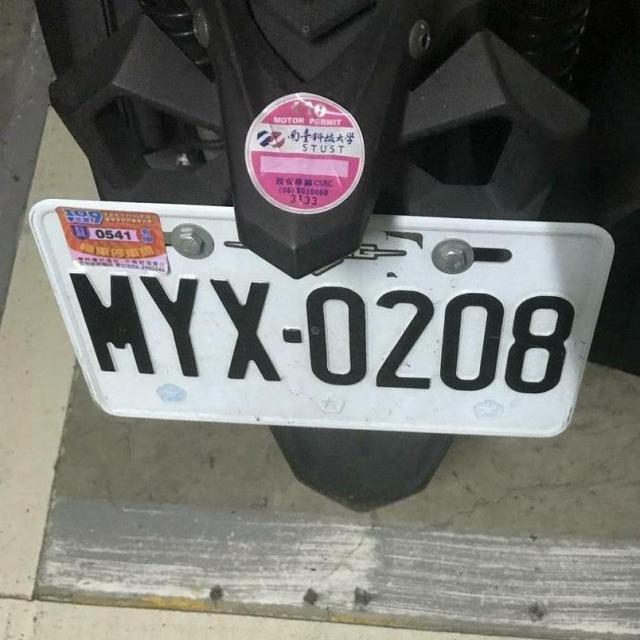W: (39, 206, 520, 456)
